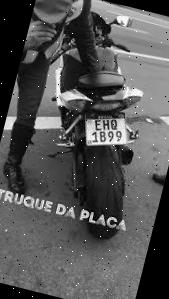placa_mercosul: (85, 111, 127, 145)
